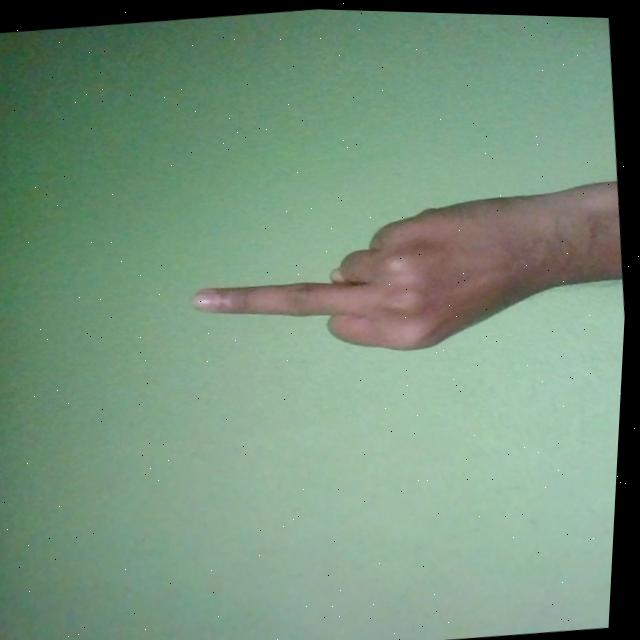Middle Finger: (182, 174, 617, 374)
